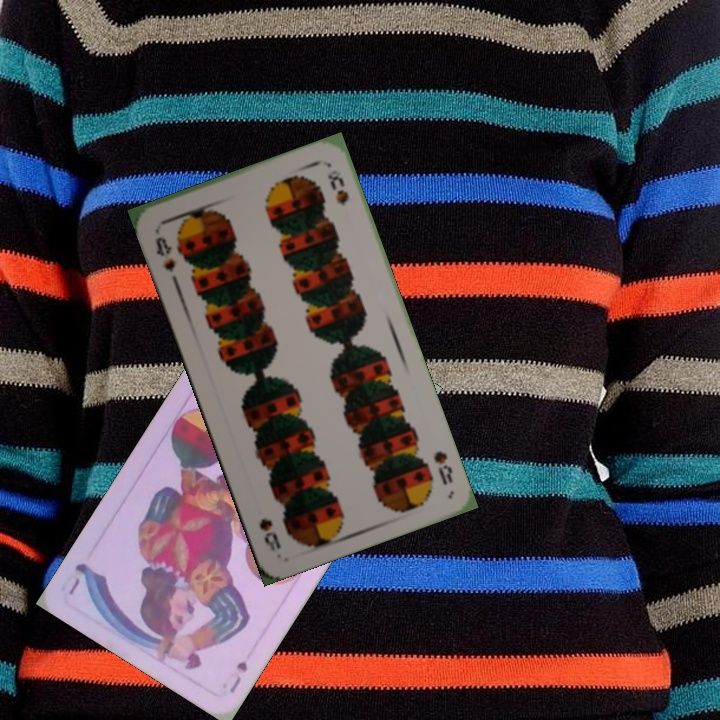S8: (151, 232, 179, 275), (429, 447, 456, 488)
SU: (224, 657, 250, 696)
